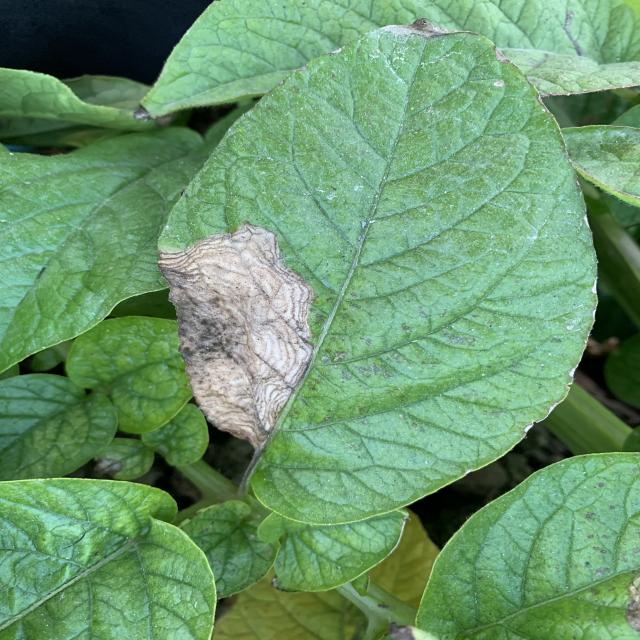lateblight: (158, 222, 315, 451)
